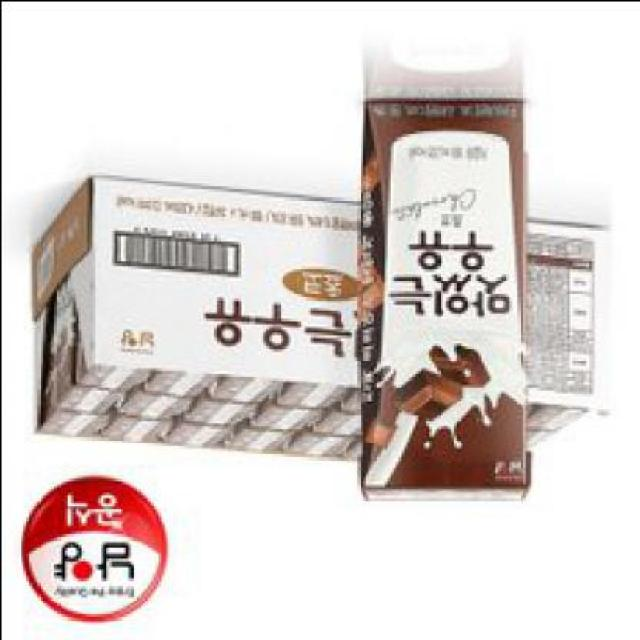tetra: (334, 75, 543, 518)
